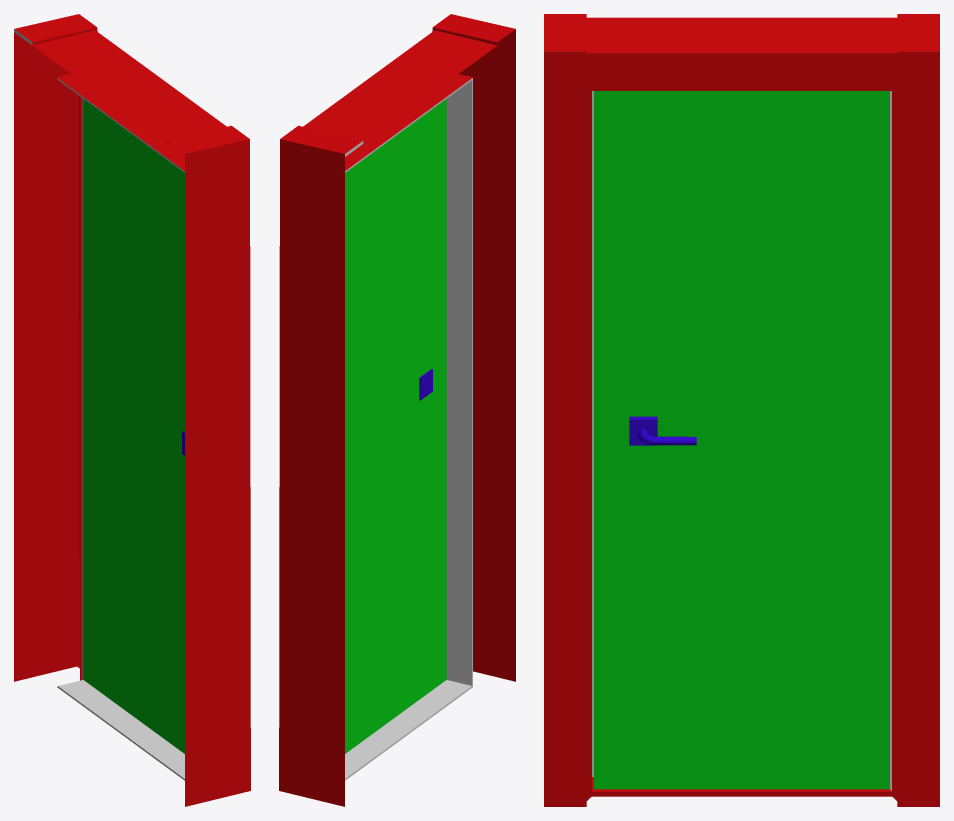
The model's file is Puerta.fbx.
3 views of the same model, side by side, from view 1: azimuth 30°, elevation 25°; view 2: azimuth 150°, elevation 25°; view 3: azimuth 270°, elevation 25° (orthographic). The views are drawn at different scales.
Parts seen in each view (by area): view 1: Cube; view 2: Cube; view 3: Cube.
Part boxes in pixels (bbox=[...]): Cube: bbox=[14, 14, 250, 806]; Cube: bbox=[279, 14, 515, 806]; Cube: bbox=[544, 14, 939, 806].
Size of the model in its own units: 57.28 by 499 by 237.
